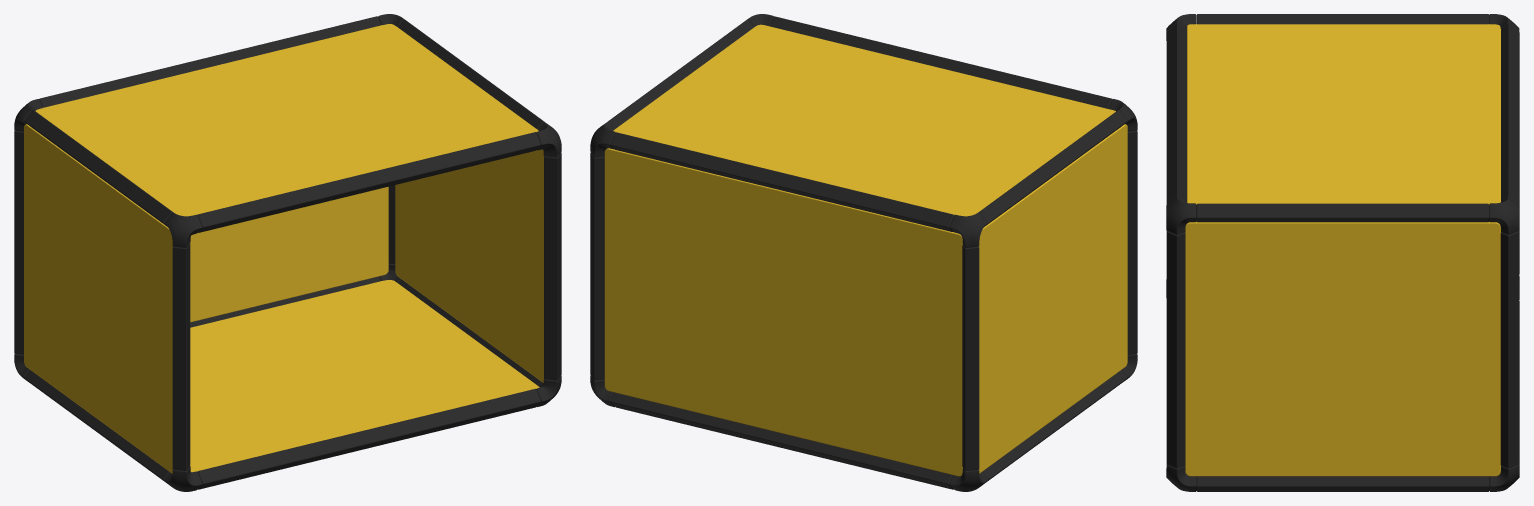
3 views of the same model, side by side, from view 1: azimuth 30°, elevation 25°; view 2: azimuth 150°, elevation 25°; view 3: azimuth 270°, elevation 25° (orthographic). The views are drawn at different scales.
Visible parts, largest first — view 1: 523x374x329; view 2: 523x374x329; view 3: 523x374x329.
Boxes of the visible parts, <box> form: 523x374x329: <box>14,14,561,491</box>; 523x374x329: <box>590,14,1137,491</box>; 523x374x329: <box>1166,14,1519,491</box>.
Size of the model in its own units: 0.6007 by 0.4066 by 0.4513.
